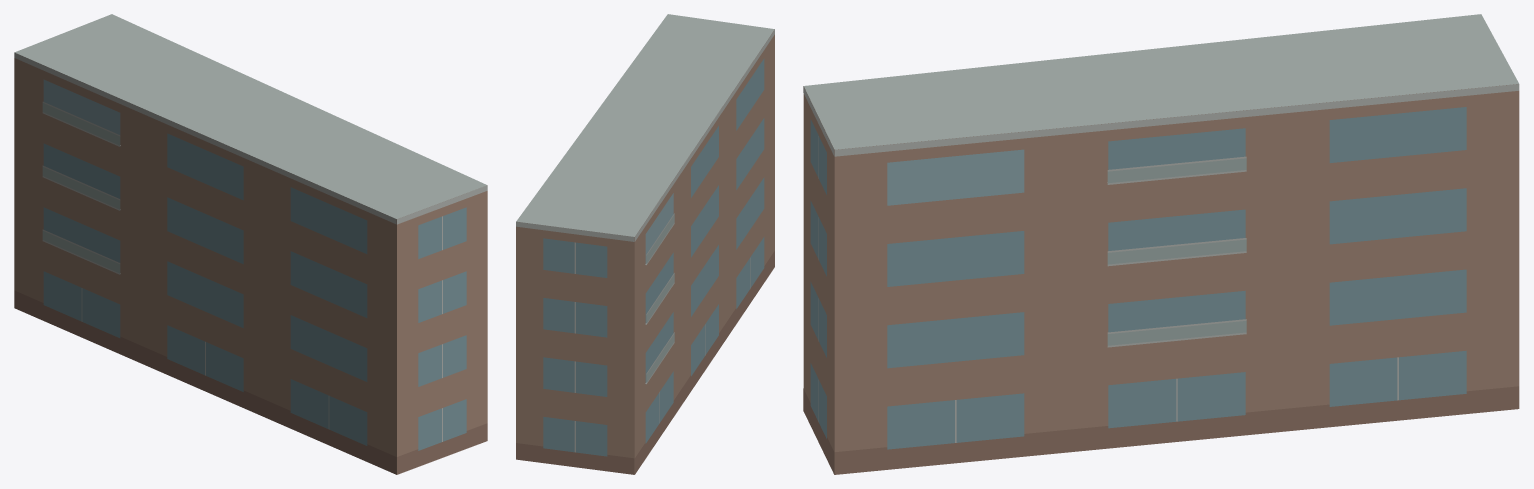
File: survey-upis-32490141.glb
3 views of the same model, side by side, from view 1: azimuth 30°, elevation 25°; view 2: azimuth 150°, elevation 25°; view 3: azimuth 270°, elevation 25° (orthographic). The views are drawn at different scales.
Parts seen in each view (by area): view 1: survey-upis-32490141.tmp; view 2: survey-upis-32490141.tmp; view 3: survey-upis-32490141.tmp.
Boxes of the visible parts, box(x1,y1,x2,y2) form: survey-upis-32490141.tmp: box(14, 14, 487, 474); survey-upis-32490141.tmp: box(516, 14, 774, 474); survey-upis-32490141.tmp: box(803, 14, 1519, 474).
Size of the model in its own units: 10.29 by 11.48 by 22.92.
